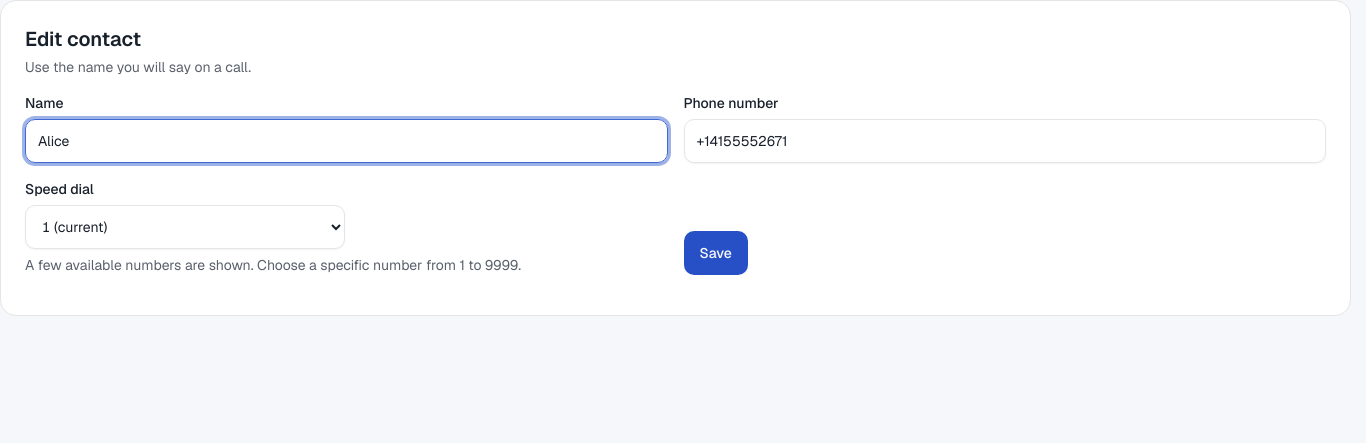
Test: available speed dials › blocks invalid or occupied custom number 2
Select "Choose a specific number…" in the dropdown labelled "Speed dial" at (185, 227), box [25,205,345,249]
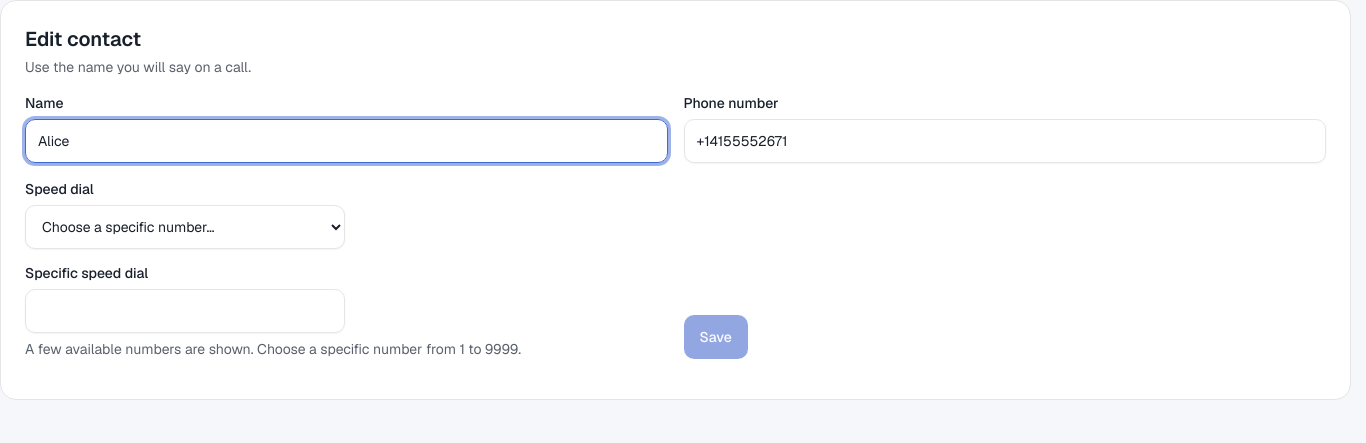
Type "2" into the number field labelled "Specific speed dial" at (185, 311), box [25,289,345,333]
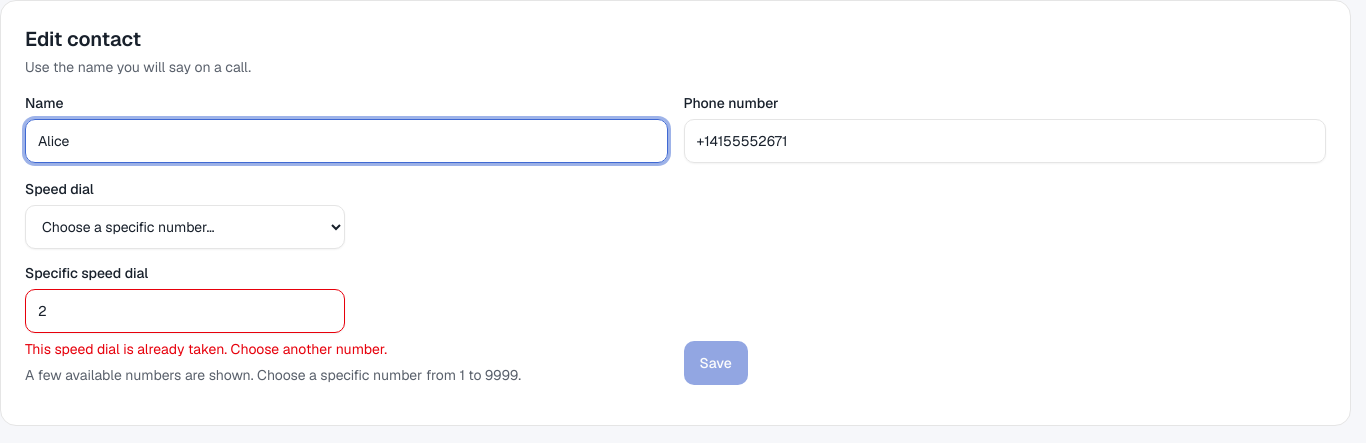
Expected: the button "Save" is disabled, [684,341,748,385]
Submit the form named "Edit Alice"
# Returning to a suggestion removes custom validation and its submitted value.
Select "3" in the dropdown labelled "Speed dial" at (185, 227), box [25,205,345,249]
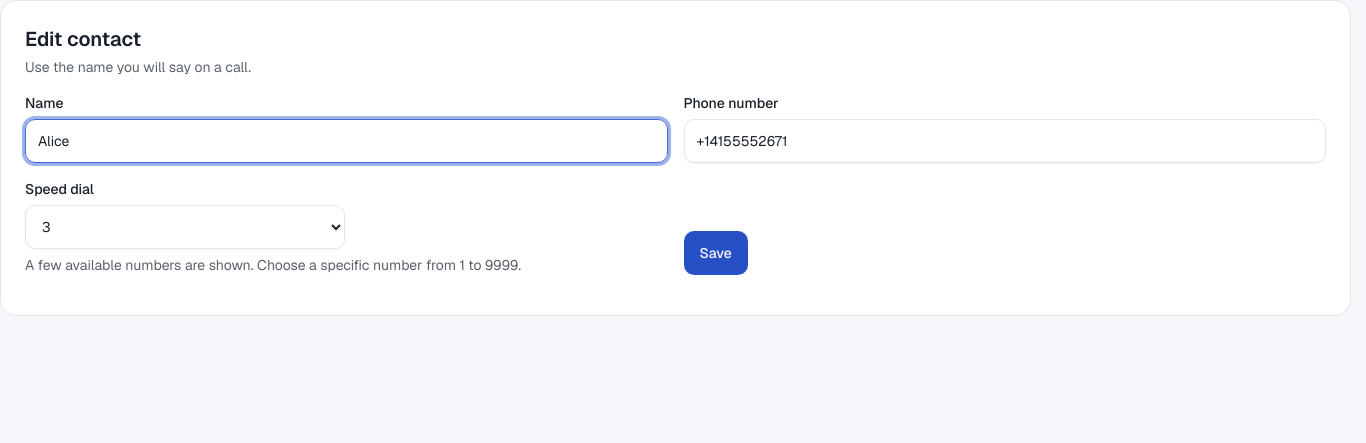
Expected: the button "Save" is enabled, [684,231,748,275]
